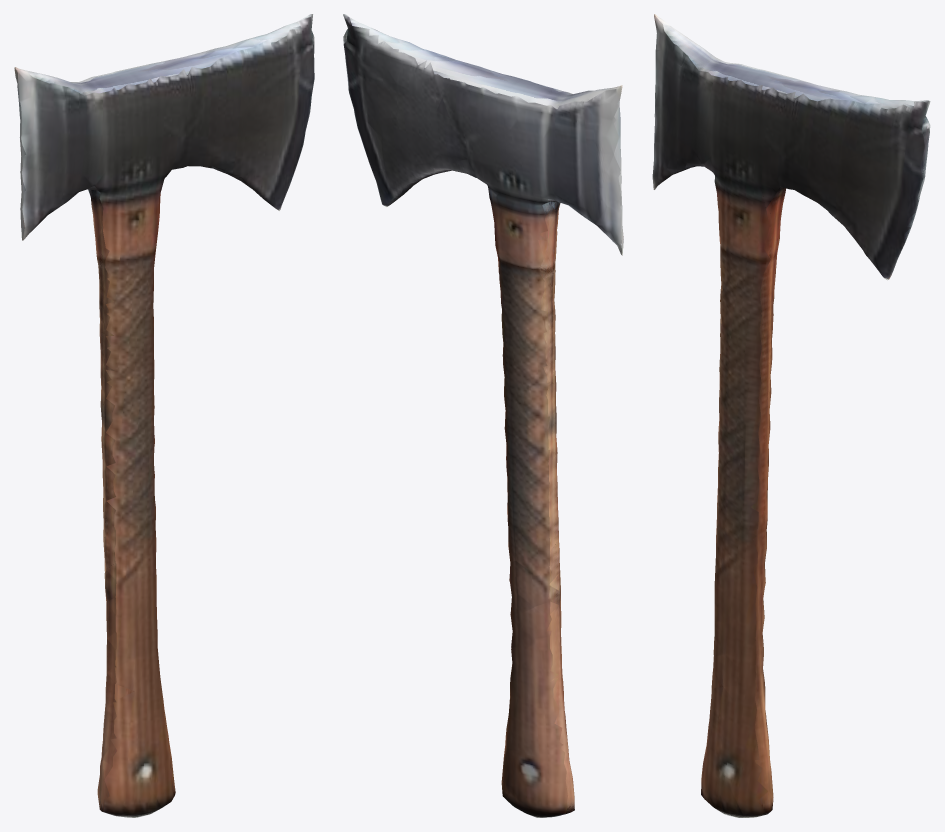
The model's file is tmp4ehe8uj8.glb.
3 renders of one model, left to right at view 1: azimuth 30°, elevation 25°; view 2: azimuth 150°, elevation 25°; view 3: azimuth 330°, elevation 25°, orthographic.
Parts seen in each view (by area): view 1: world; view 2: world; view 3: world.
Boxes of the visible parts, left/top/right/bottom form: world: left=14, top=14, right=314, bottom=817; world: left=343, top=14, right=623, bottom=817; world: left=652, top=14, right=930, bottom=817.
Bounding box in the file's own units: 0.3879 × 0.9773 × 0.0866.
1 material, 1 textured.
